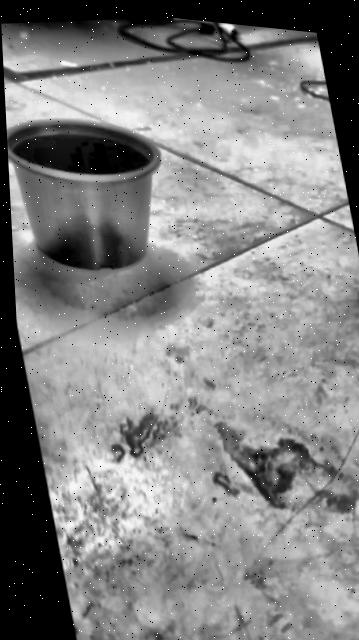pot: (5, 99, 180, 287)
